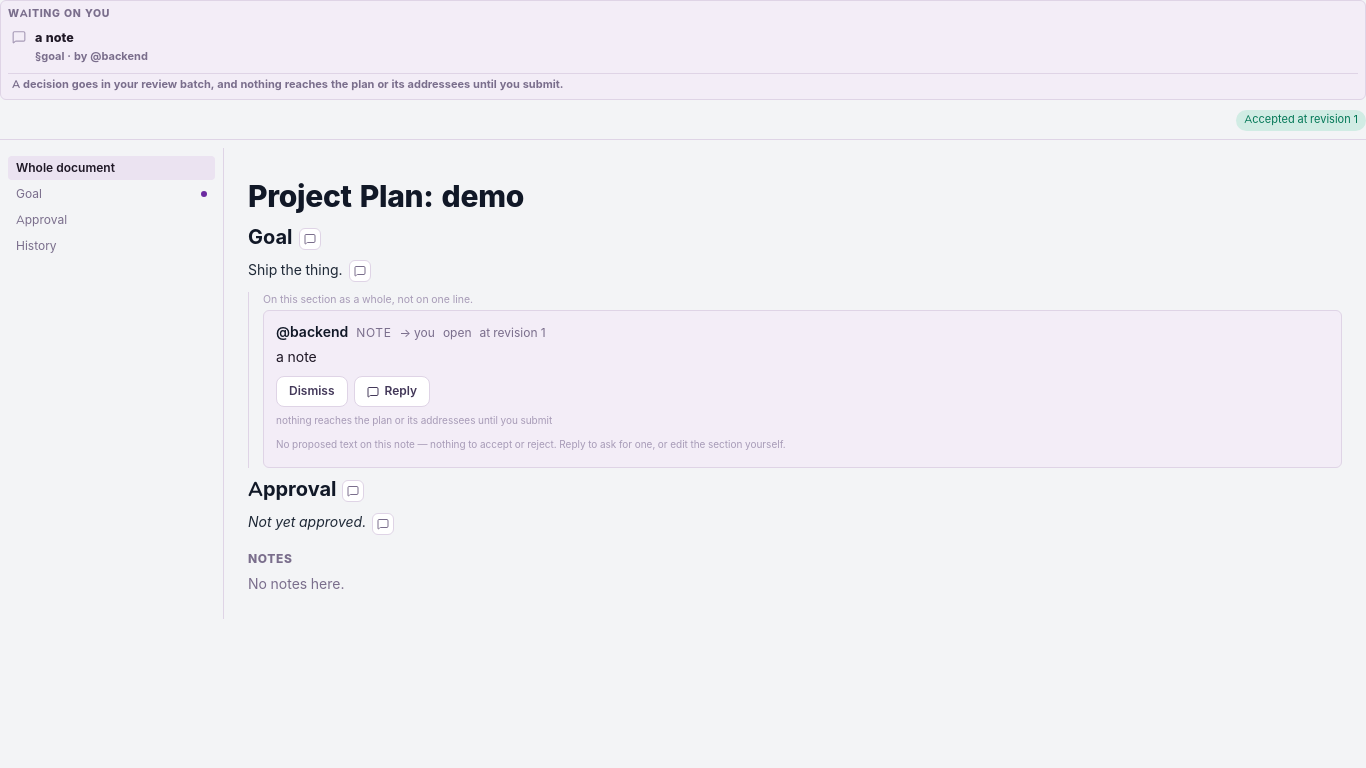
Test: AC-2.20 — the strip does not ride the batch, and does not write outside it either › a failed submit is reported by the EDITOR, and the strip says nothing at all
Expected: the element with test id "plan-acceptance" is shown, [0, 110, 1365, 140]
Click the button "Dismiss".
click(312, 392)  # box [276, 376, 348, 407]
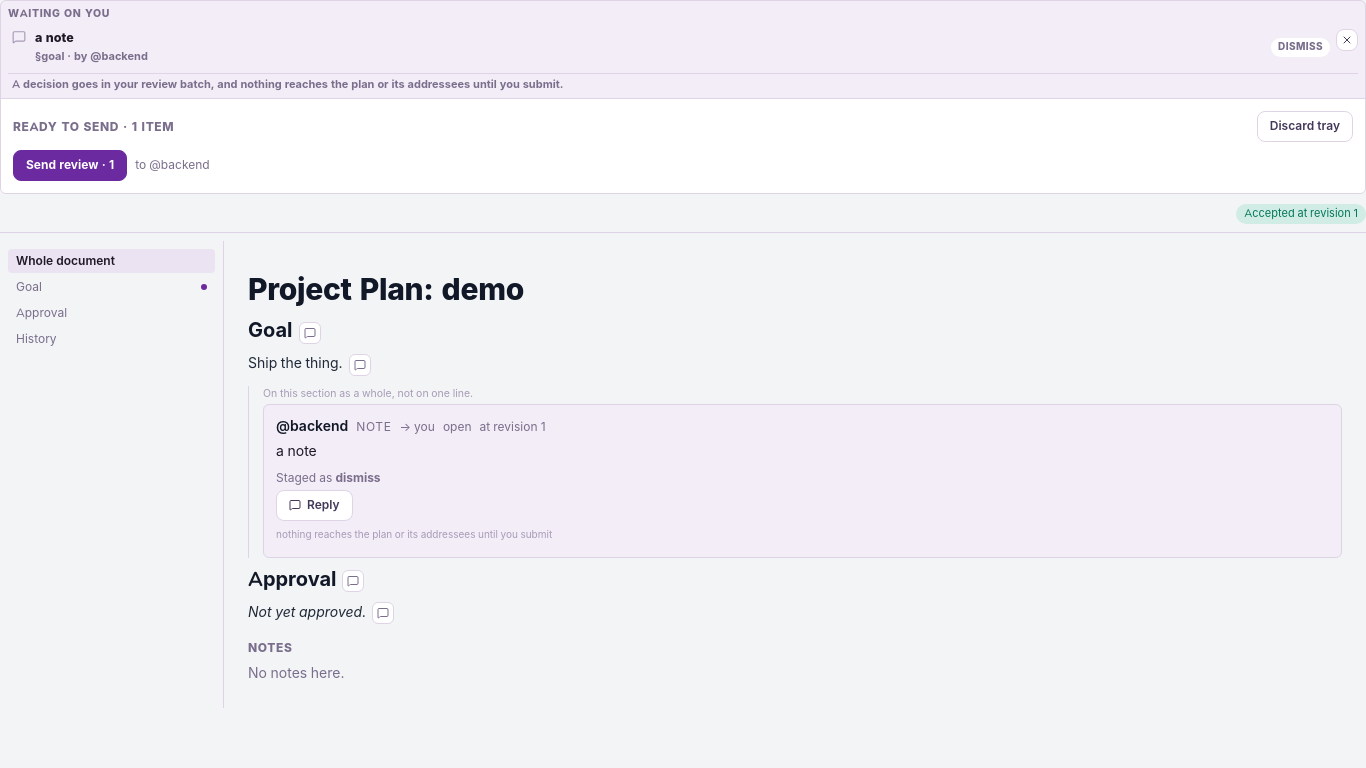
Click the button "Send review · 1".
click(70, 165)  # box [13, 150, 127, 181]
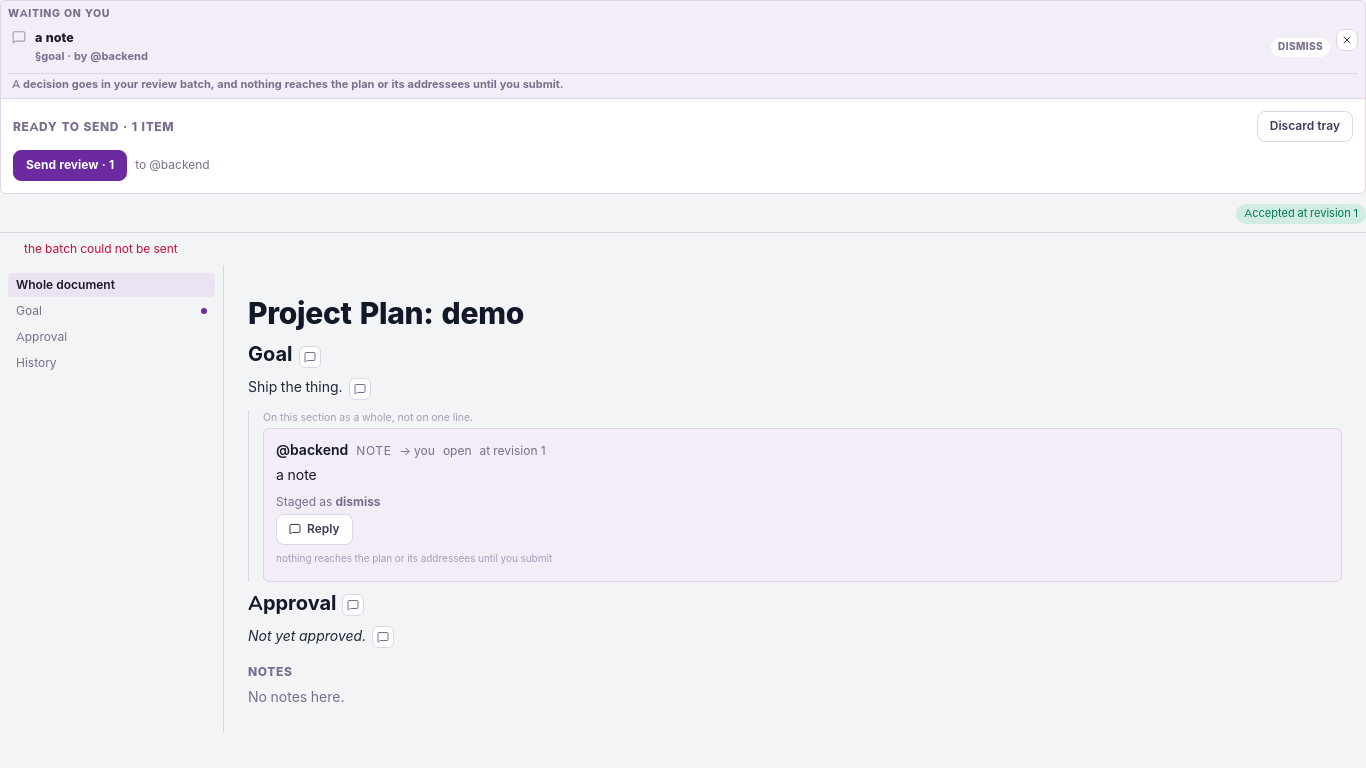
Expected: the text with test id "plan-accepted" reads "Accepted at revision 1", [1244, 206, 1358, 221]
Expected: the message reads "the batch could not be sent", [24, 241, 178, 257]
